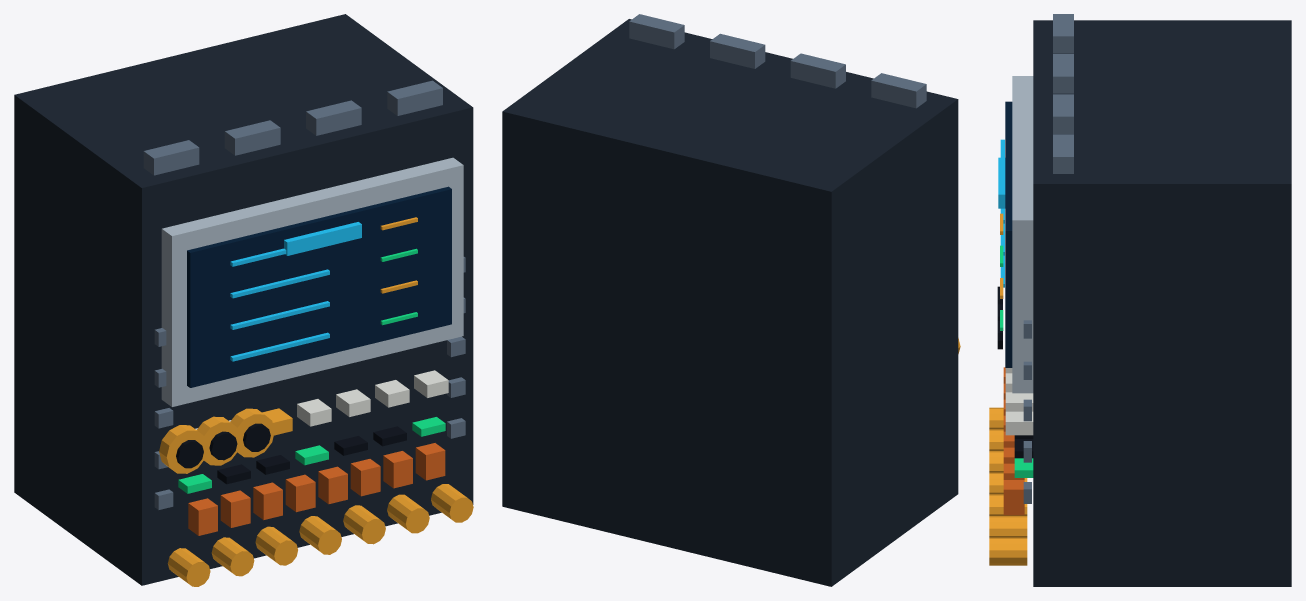
Rendered from 71_L87_IndependentOverspeedProtector.fbx.
3 renders of one model, left to right at view 1: azimuth 30°, elevation 25°; view 2: azimuth 150°, elevation 25°; view 3: azimuth 270°, elevation 25°, orthographic.
Parts seen in each view (by area): view 1: L87_IndependentOverspeedProtector, L87_IndependentOverspeedProtector_Part_0010, L87_IndependentOverspeedProtector_Part_0011, L87_IndependentOverspeedProtector_Part_0012, L87_IndependentOverspeedProtector_Part_0016, L87_IndependentOverspeedProtector_Part_0014, L87_IndependentOverspeedProtector_Part_0015, L87_IndependentOverspeedProtector_Part_0017, L87_IndependentOverspeedProtector_Part_0013; view 2: L87_IndependentOverspeedProtector, L87_IndependentOverspeedProtector_Part_0010; view 3: L87_IndependentOverspeedProtector, L87_IndependentOverspeedProtector_Part_0010, L87_IndependentOverspeedProtector_Part_0011.
Part boxes in pixels (x1,y1,x2,y2): L87_IndependentOverspeedProtector: [14, 14, 473, 586]; L87_IndependentOverspeedProtector_Part_0010: [143, 80, 442, 175]; L87_IndependentOverspeedProtector_Part_0011: [284, 222, 361, 255]; L87_IndependentOverspeedProtector_Part_0012: [159, 425, 207, 473]; L87_IndependentOverspeedProtector_Part_0016: [230, 408, 274, 457]; L87_IndependentOverspeedProtector_Part_0014: [197, 416, 240, 465]; L87_IndependentOverspeedProtector_Part_0015: [209, 431, 237, 460]; L87_IndependentOverspeedProtector_Part_0017: [243, 423, 270, 451]; L87_IndependentOverspeedProtector_Part_0013: [176, 440, 203, 468]; L87_IndependentOverspeedProtector: [502, 19, 958, 586]; L87_IndependentOverspeedProtector_Part_0010: [629, 14, 926, 108]; L87_IndependentOverspeedProtector: [989, 20, 1291, 586]; L87_IndependentOverspeedProtector_Part_0010: [1053, 14, 1073, 173]; L87_IndependentOverspeedProtector_Part_0011: [998, 157, 1005, 208].
Bounding box in the file's own units: 104 × 124 × 81.09.
